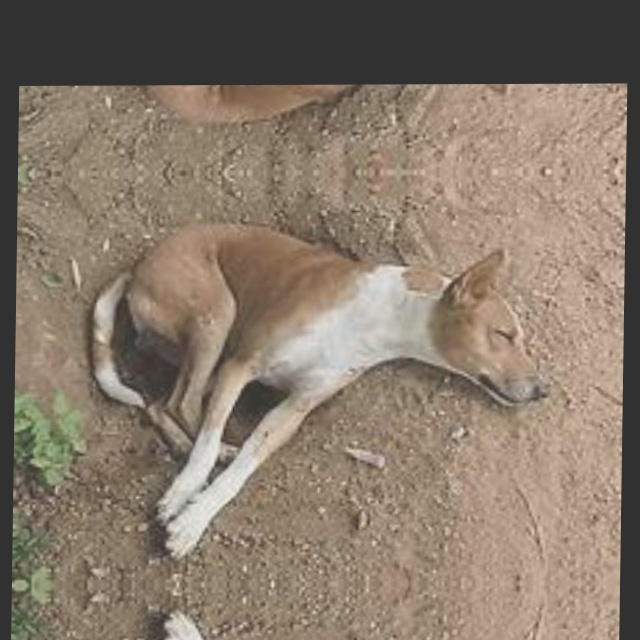dog: (65, 225, 569, 537), (72, 84, 571, 119), (64, 631, 563, 640)
